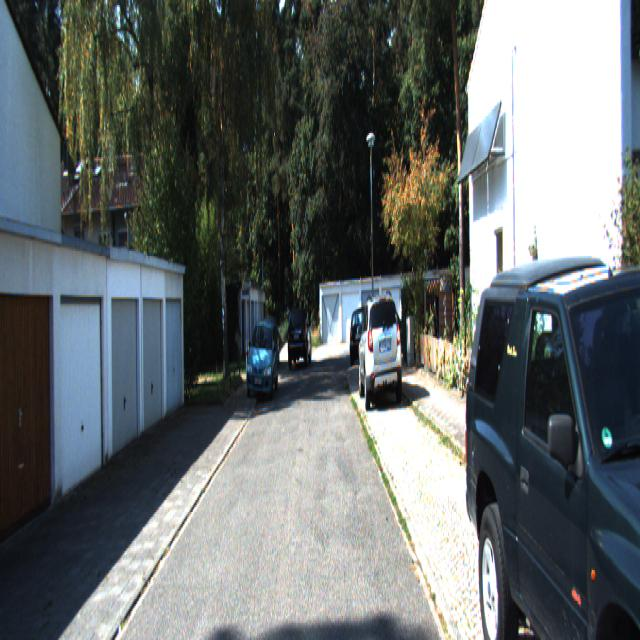Car: (460, 193, 640, 638), (357, 294, 402, 412), (246, 314, 278, 396), (349, 303, 377, 363), (287, 308, 312, 368)
